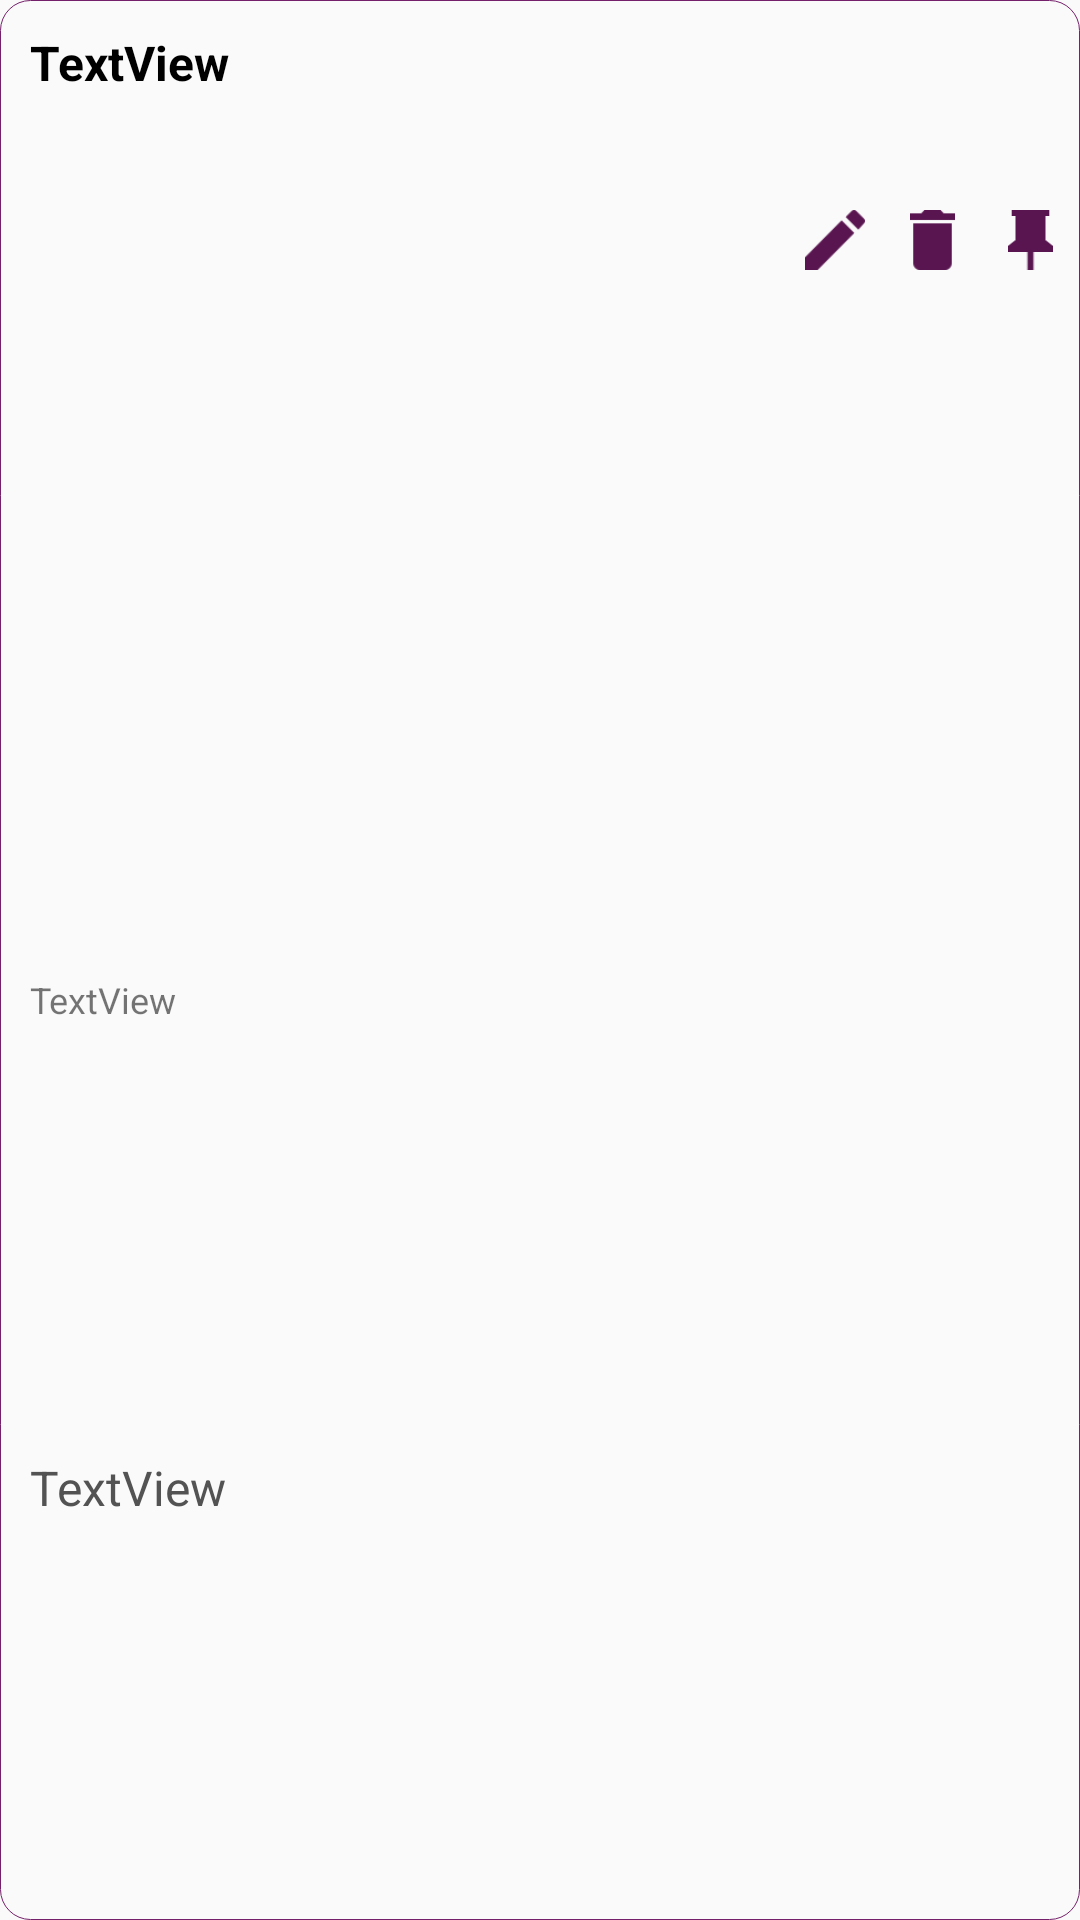

Icon bounding boxes for this 1080 x 1920 phone screenshot, format box(x1, y1, x2, y2):
create: box(805, 210, 865, 270)
delete: box(910, 210, 955, 270)
keep: box(1008, 210, 1053, 270)
